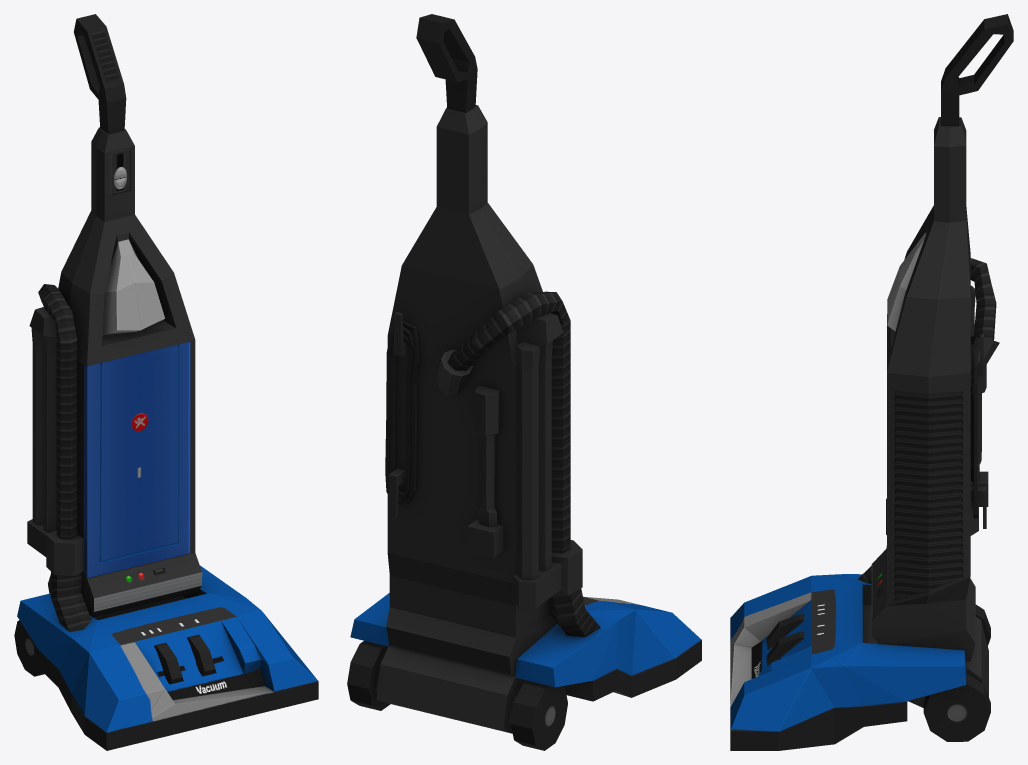
The model's file is 65aaa8da-e7c4-48b8-95a9-9c4890e80c68.glb.
The picture shows the model from 3 angles, left to right: view 1: azimuth 30°, elevation 25°; view 2: azimuth 150°, elevation 25°; view 3: azimuth 270°, elevation 25°; orthographic projection. The views are drawn at different scales.
Parts seen in each view (by area): view 1: Vacuum_mesh; view 2: Vacuum_mesh; view 3: Vacuum_mesh.
Boxes of the visible parts, bbox=[...] form: Vacuum_mesh: bbox=[14, 14, 318, 750]; Vacuum_mesh: bbox=[347, 14, 701, 750]; Vacuum_mesh: bbox=[730, 14, 1013, 750].
Size of the model in its own units: 1.94 by 5.42 by 2.05.
1 material, 1 textured.
